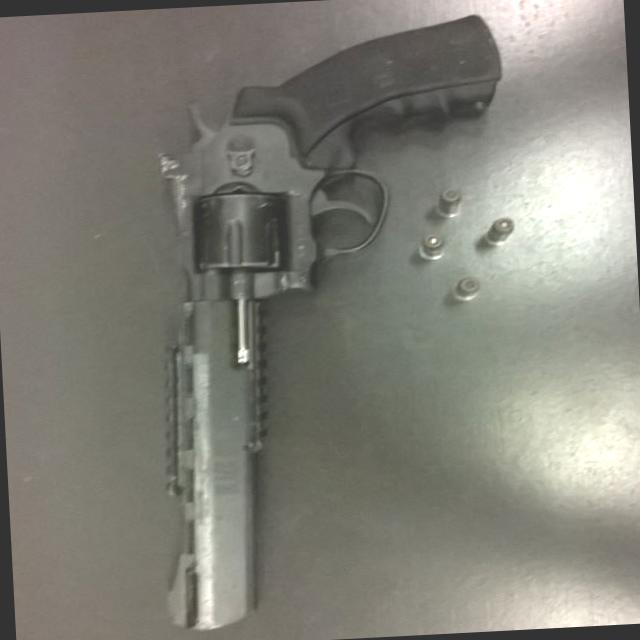handgun: (115, 10, 541, 639)
